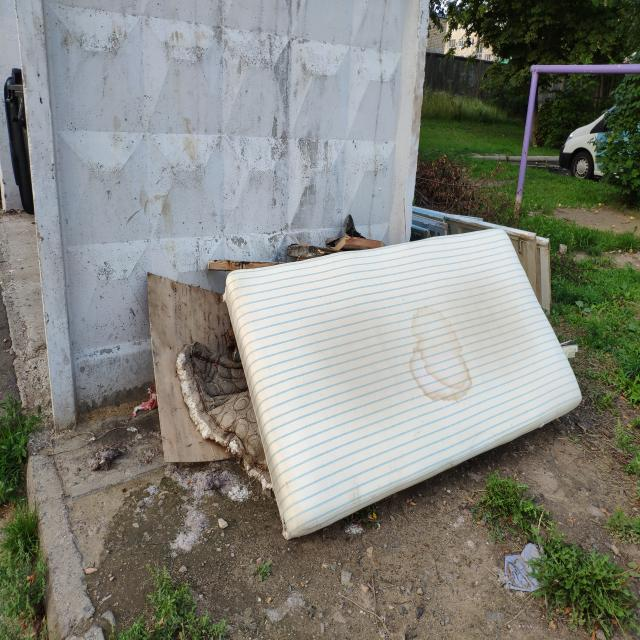entulho: (232, 234, 578, 547), (146, 275, 246, 461), (497, 227, 549, 317), (295, 217, 382, 255), (406, 202, 495, 236)
lixo domiciliar: (132, 388, 157, 418)
